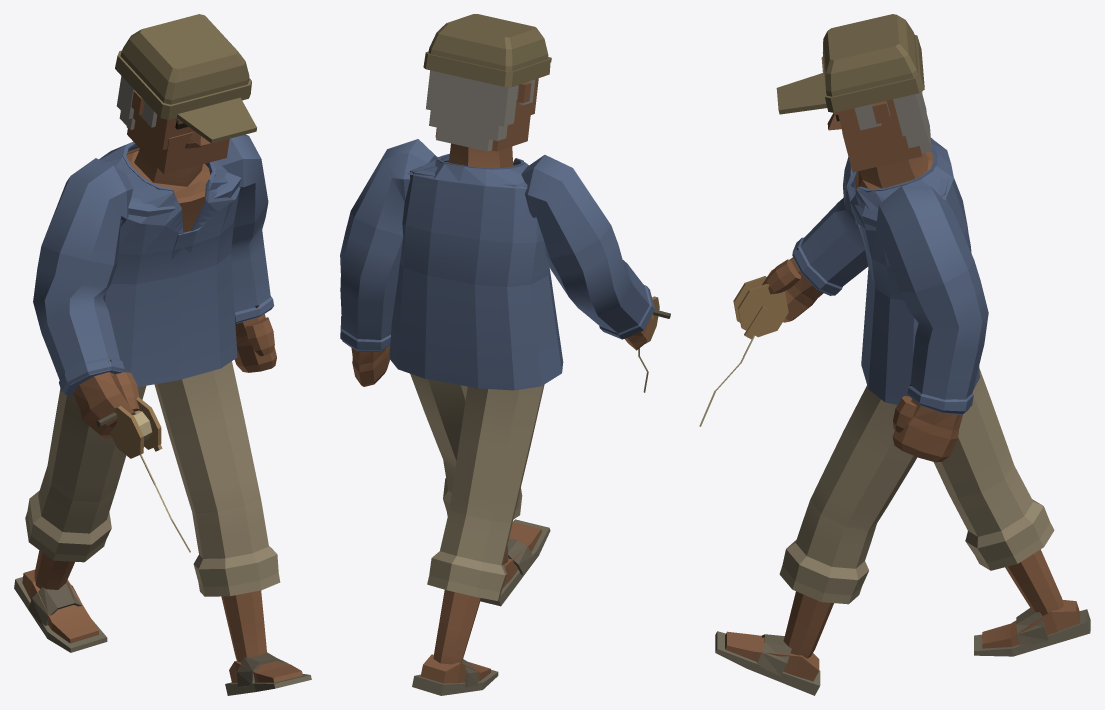
File: hanga-roa-fisherman-e56812__walk0.glb
The picture shows the model from 3 angles, left to right: view 1: azimuth 30°, elevation 25°; view 2: azimuth 150°, elevation 25°; view 3: azimuth 270°, elevation 25°; orthographic projection. The views are drawn at different scales.
Visible parts, largest first — view 1: hanga-roa-fisherman-e56812__walk0; view 2: hanga-roa-fisherman-e56812__walk0; view 3: hanga-roa-fisherman-e56812__walk0.
Boxes of the visible parts, left/top/right/bottom form: hanga-roa-fisherman-e56812__walk0: left=14, top=14, right=311, bottom=695; hanga-roa-fisherman-e56812__walk0: left=340, top=14, right=670, bottom=695; hanga-roa-fisherman-e56812__walk0: left=699, top=14, right=1090, bottom=695.
Size of the model in its own units: 0.7295 by 1.68 by 0.9268.
